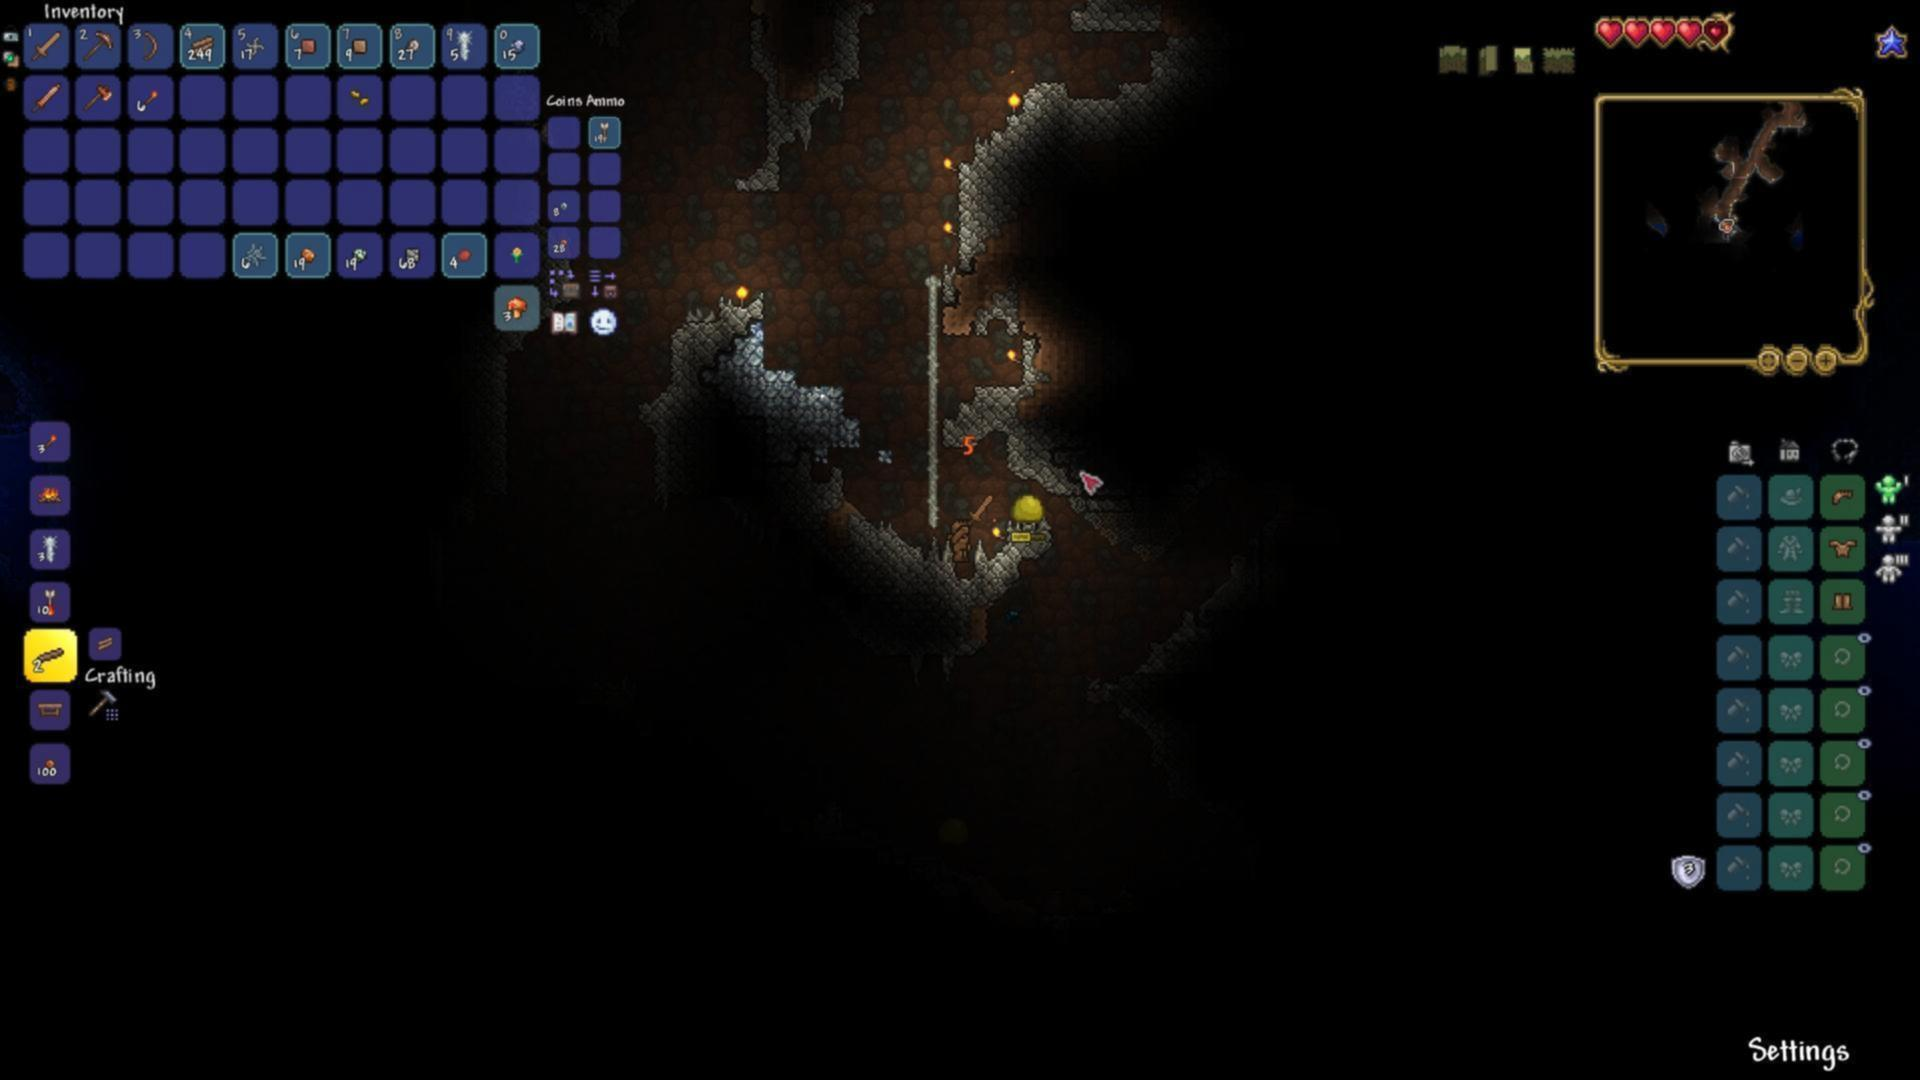bow: (140, 29, 160, 62)
breastplate: (1826, 538, 1857, 558)
cobwebI: (240, 241, 272, 269)
gel: (458, 247, 471, 262)
helmet: (1830, 489, 1854, 506)
legs: (1830, 588, 1858, 612)
ore: (298, 240, 318, 269), (349, 244, 367, 268)
pickaxe: (80, 32, 113, 62)
platform: (32, 644, 70, 669)
rope: (41, 531, 62, 562), (455, 30, 471, 61)
shuriken: (244, 33, 265, 57)
slime: (1011, 492, 1048, 531)
workbench: (42, 585, 59, 617), (599, 117, 615, 142)
